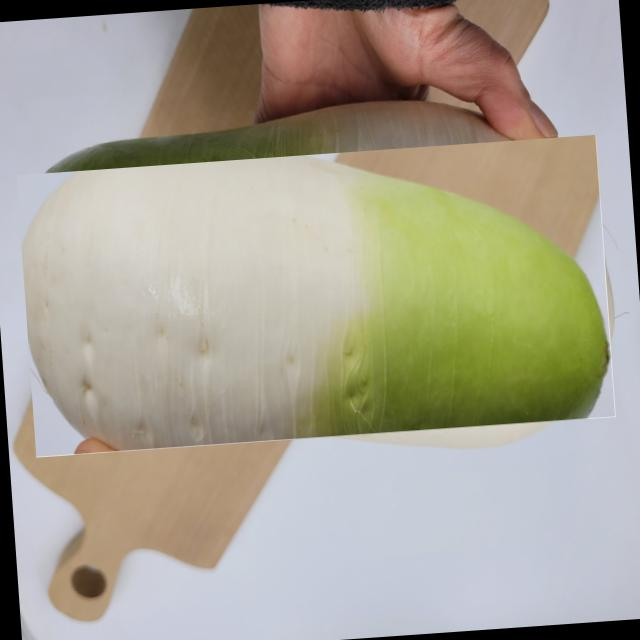radish: (17, 134, 616, 457)
